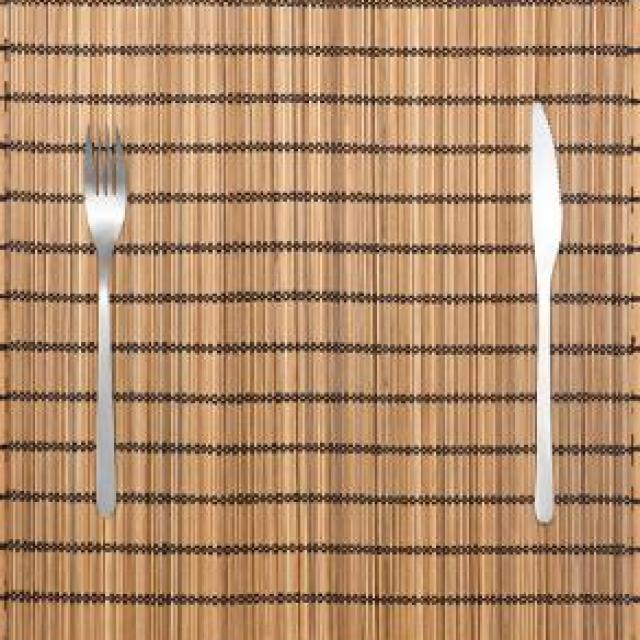knife: (524, 99, 568, 508)
